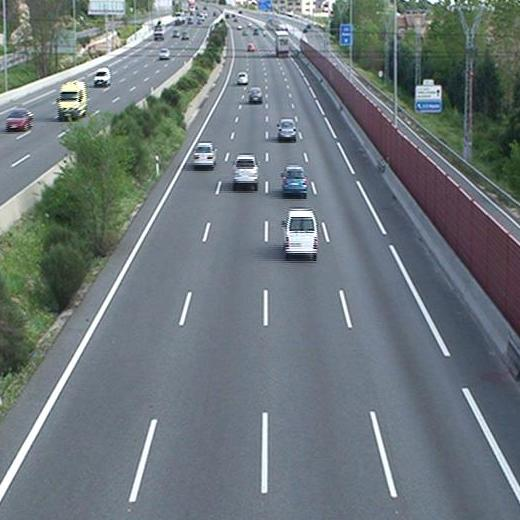car: (231, 155, 259, 190), (280, 166, 308, 198), (192, 142, 217, 168), (276, 119, 295, 140), (248, 87, 263, 103), (235, 71, 248, 85)
truck: (275, 33, 292, 59)
van: (281, 210, 318, 259)
